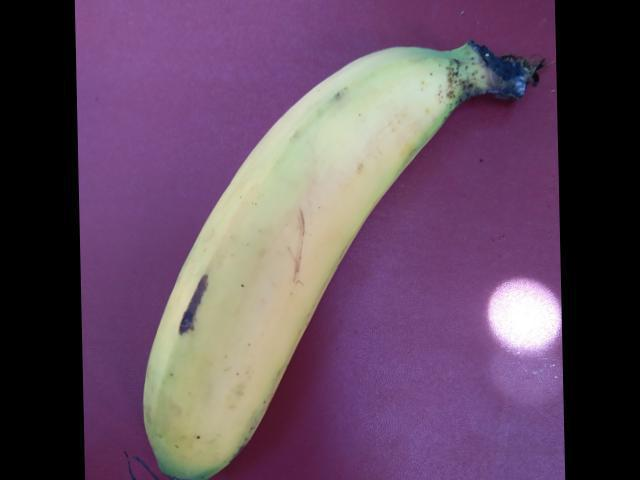ripe: (101, 57, 481, 479)
